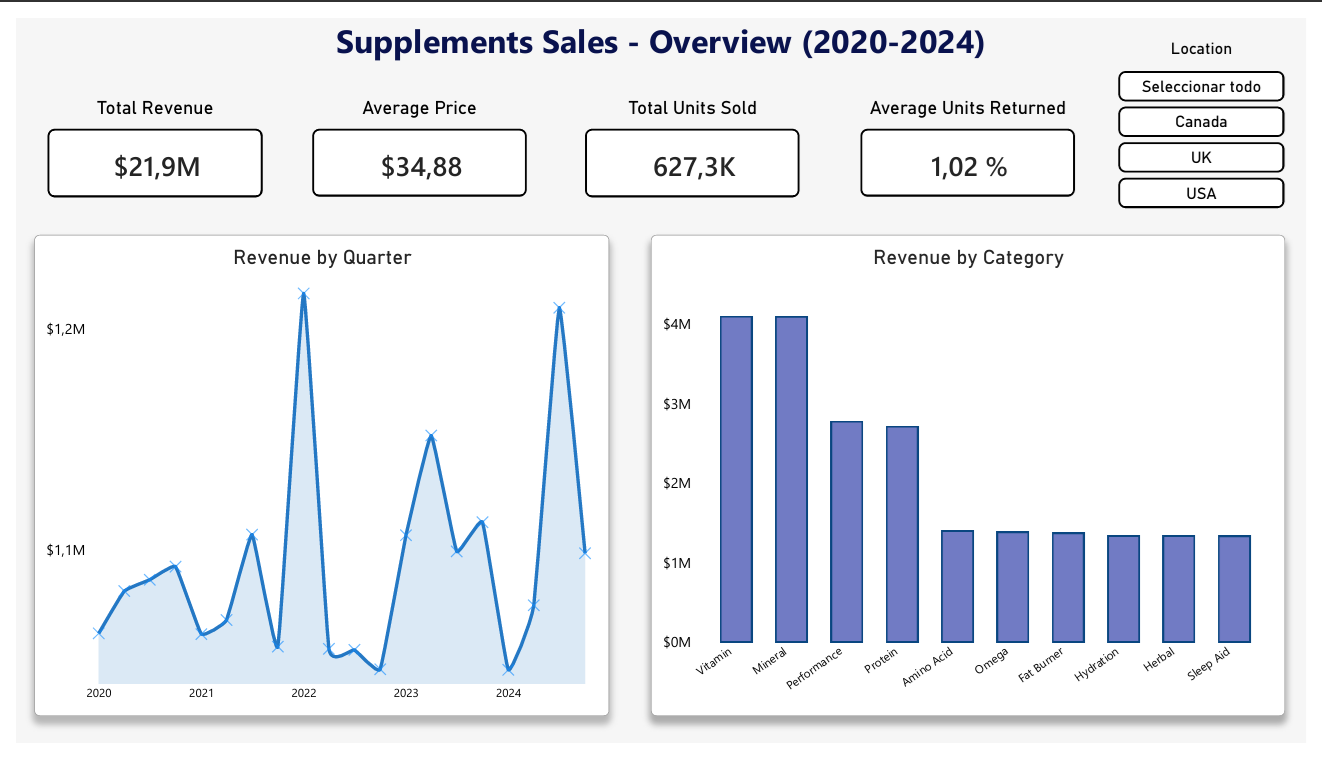

The dashboard page shown, as its layout file describes it:
{"tool":"powerbi","page":{"name":"Overview","canvas":[1920,1080],"ordinal":0},"visuals":[{"type":"cardVisual","title":"Total Revenue","fields":{"Data":["_Medidas.total_revenue (M)"]},"box":[47,117.4,320,150.6],"z":0},{"type":"cardVisual","title":"Total Units Sold","fields":{"Data":["_Medidas.total_units_sold (K)"]},"box":[847,117.4,319.7,150.6],"z":1000},{"type":"lineChart","title":"Revenue by Quarter","fields":{"Category":["fact_sales.date.Variación.Jerarquía de fechas.Año","fact_sales.date.Variación.Jerarquía de fechas.Trimestre"],"Y":["_Medidas.total_revenue (M)"]},"box":[27.1,323.3,856.1,717],"z":2000},{"type":"clusteredColumnChart","title":"Revenue by Category","fields":{"Category":["dim_products.category"],"Y":["_Medidas.total_revenue (M)"]},"box":[944.5,323.3,944.5,717],"z":3000},{"type":"advancedSlicerVisual","title":"Location ","fields":{"Values":["dim_locations.location"]},"box":[1641.2,31.6,247.2,273.2],"z":4000},{"type":"textbox","box":[0,0,1629,117.4],"z":5000},{"type":"cardVisual","title":"Average Units Returned","fields":{"Data":["_Medidas.avg_units_returned"]},"box":[1257,117.4,319.7,149.9],"z":6000},{"type":"cardVisual","title":"Average Price","fields":{"Data":["_Medidas.average_price"]},"box":[440.7,117.4,319.7,149.9],"z":7000}]}

Visuals, with their boxes in screenshot pixels (x1, y1, x2, y2), scaled from the page's 1920x1080 canvas onto the 1322x760 screenshot:
"Total Revenue" cardVisual: left=32, top=83, right=253, bottom=189
"Total Units Sold" cardVisual: left=583, top=83, right=803, bottom=189
"Revenue by Quarter" lineChart: left=19, top=228, right=608, bottom=732
"Revenue by Category" clusteredColumnChart: left=650, top=228, right=1301, bottom=732
"Location " advancedSlicerVisual: left=1130, top=22, right=1300, bottom=214
textbox: left=0, top=0, right=1122, bottom=83
"Average Units Returned" cardVisual: left=865, top=83, right=1086, bottom=188
"Average Price" cardVisual: left=303, top=83, right=524, bottom=188
